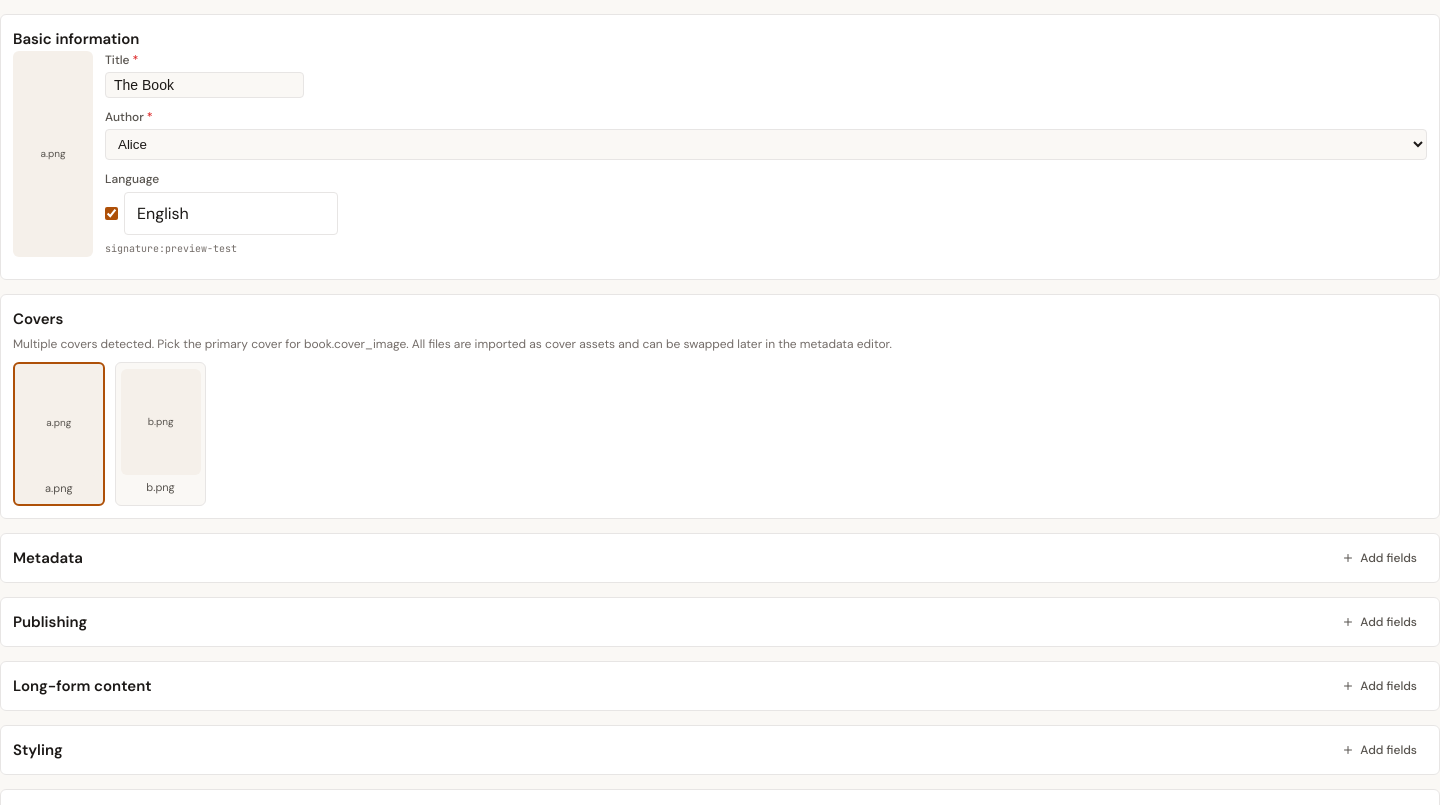
PreviewPanel — multi-cover selector › clicking another cover swaps selection and updates overrides
The width and height of the screenshot is (1440, 805).
Click the radio button with test id "preview-cover-radio-b.png" at point(161, 434), box [115,362,206,506]
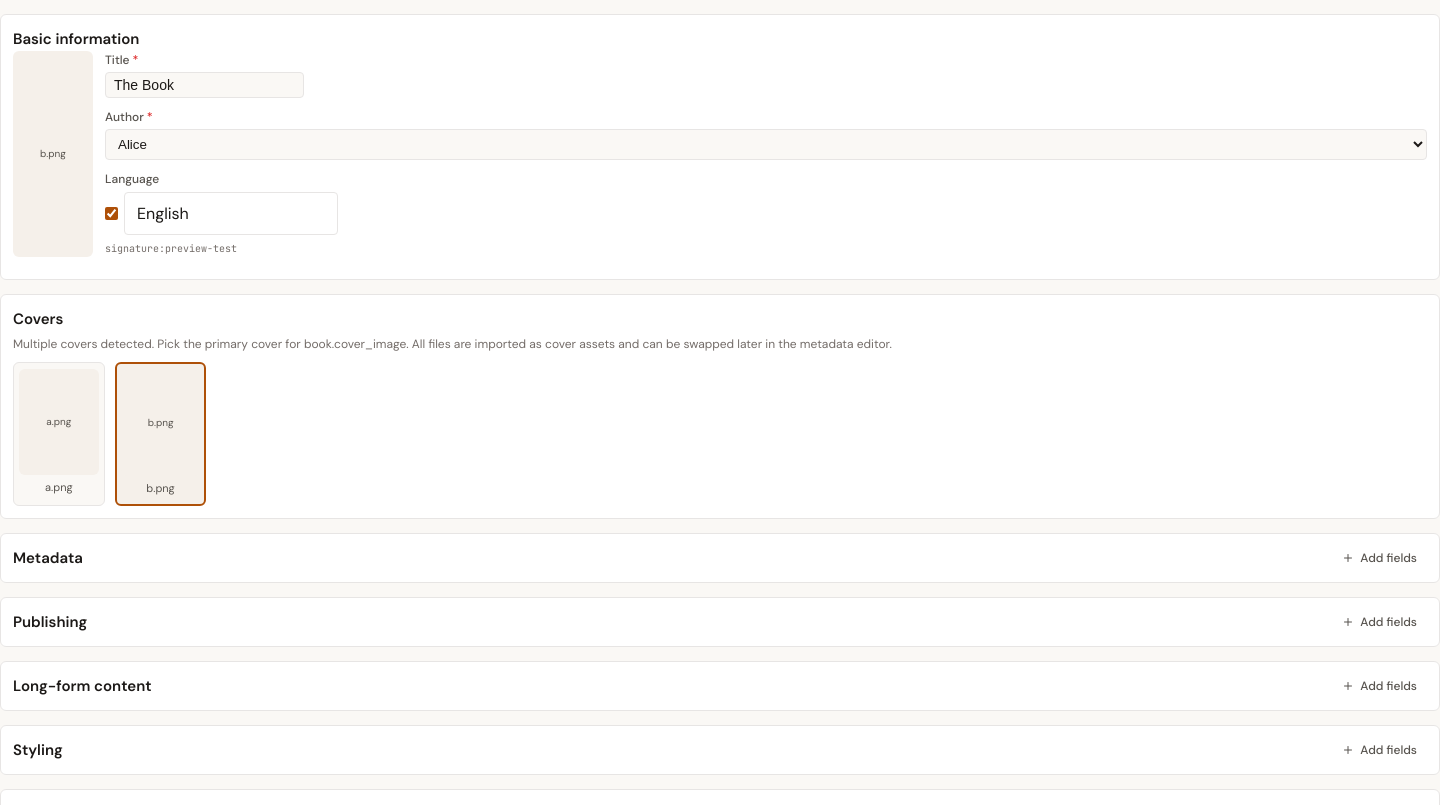
expect the text "b.png" next to "Title" is shown: met, box [40,147,66,160]
